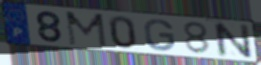0: (108, 15, 139, 50)
8: (182, 21, 211, 55), (35, 10, 64, 44)
G: (143, 18, 177, 52)
M: (64, 10, 110, 49)
N: (211, 21, 255, 59)
